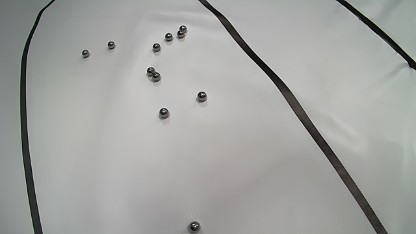ironball: (188, 221, 200, 233), (196, 91, 207, 102), (159, 108, 169, 118), (81, 49, 90, 58), (146, 67, 155, 76), (152, 43, 160, 52), (107, 40, 115, 49), (152, 72, 160, 81), (179, 25, 187, 33), (177, 30, 185, 38), (165, 33, 172, 41)
